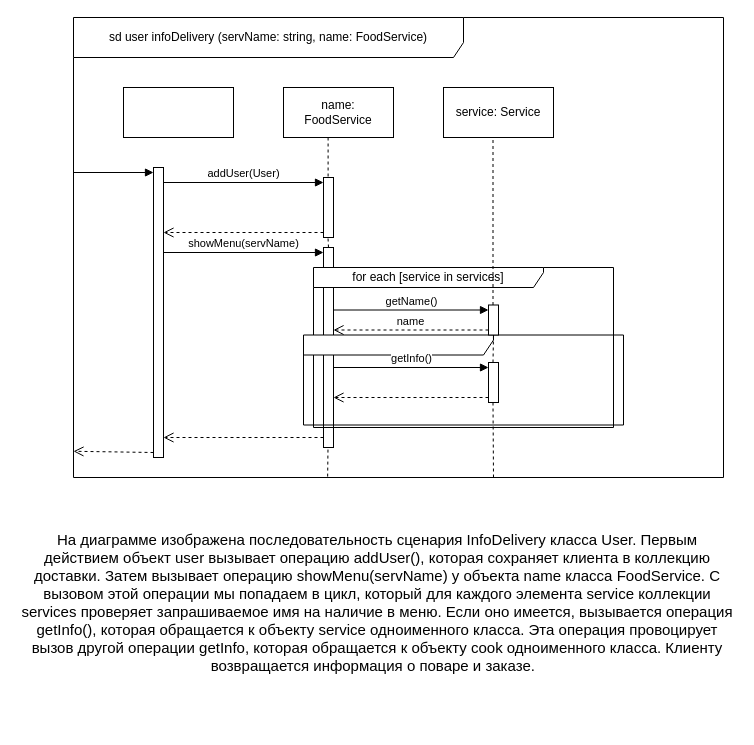
Some shapes in this 754 by 745 pixel diagram are drawn without their labels. Here are the shapes that lost their labels. From the top down, the centre of each, then its label:
pixel 178 112: user:User
pixel 463 379: opt[serviceName=name]
